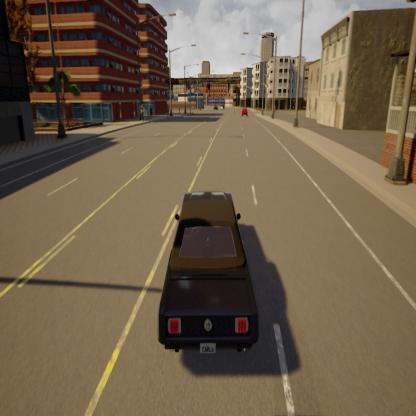Cars: (156, 191, 257, 362), (240, 104, 249, 117)
